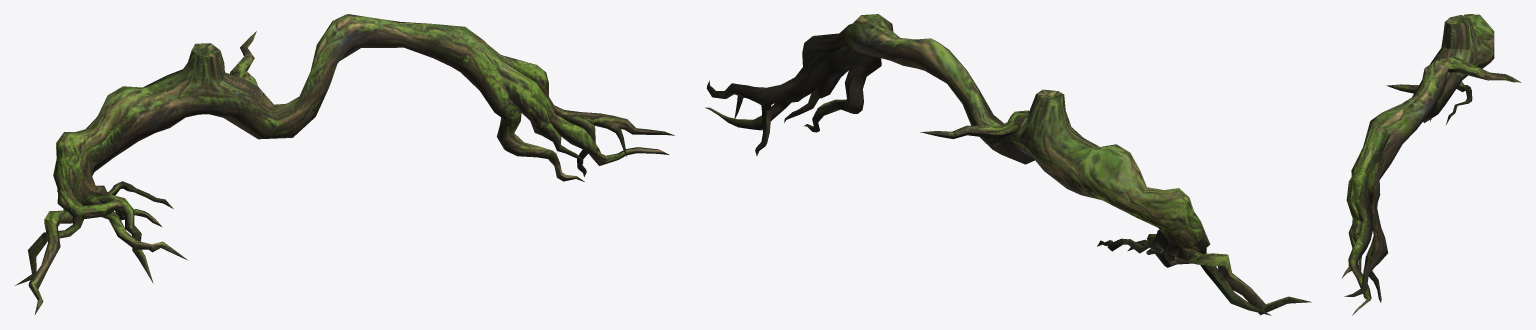
Rendered from 3014_Item_shuteng_01.FBX.
3 renders of one model, left to right at view 1: azimuth 30°, elevation 25°; view 2: azimuth 150°, elevation 25°; view 3: azimuth 270°, elevation 25°, orthographic. The views are drawn at different scales.
Parts seen in each view (by area): view 1: 3014_Item_shuteng_01; view 2: 3014_Item_shuteng_01; view 3: 3014_Item_shuteng_01.
Boxes of the visible parts, box(x1,y1,x2,y2) form: 3014_Item_shuteng_01: box(15, 14, 674, 314); 3014_Item_shuteng_01: box(705, 14, 1311, 315); 3014_Item_shuteng_01: box(1342, 14, 1520, 315).
Bounding box in the file's own units: 2641 × 804 × 799.
